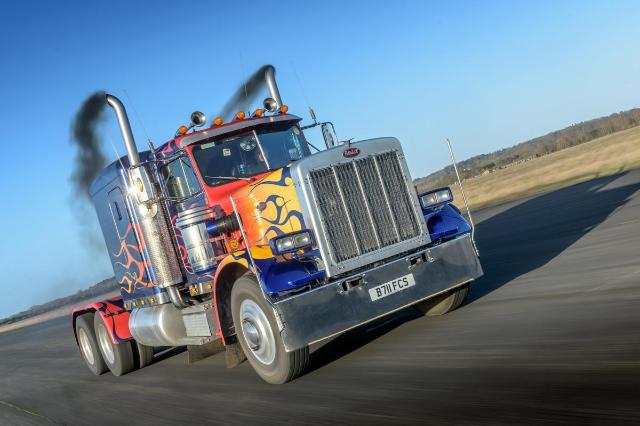truck: (26, 74, 513, 385)
